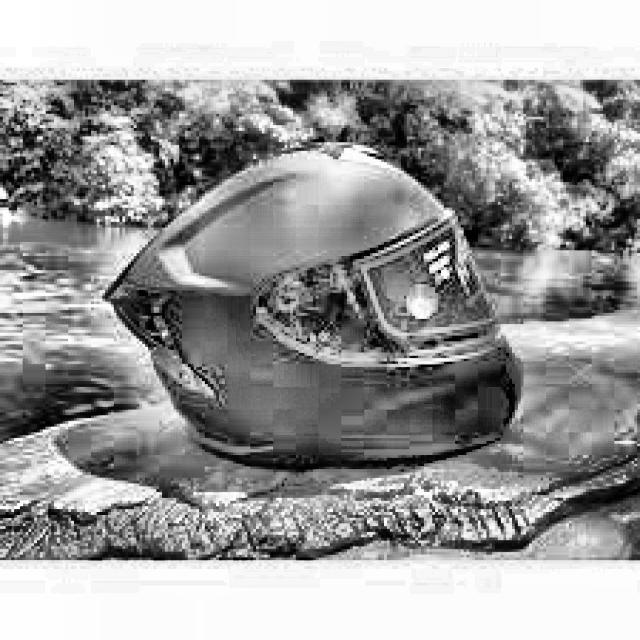Helmet: (96, 143, 518, 479)
